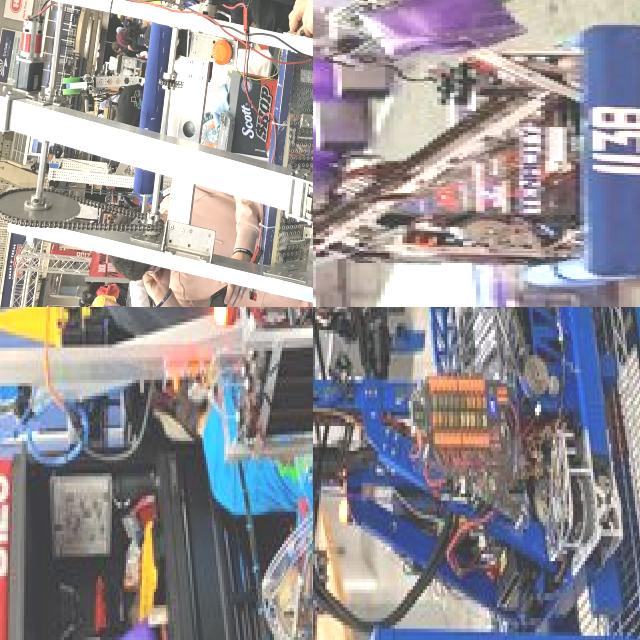FRC-Robots: (313, 307, 640, 640), (0, 307, 313, 640), (313, 0, 640, 307), (0, 0, 313, 307)
